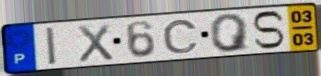6: (124, 20, 157, 60)
C: (161, 18, 201, 55)
I: (44, 25, 59, 67)
Q: (208, 12, 251, 54)
S: (250, 10, 286, 51)
X: (75, 22, 116, 65)
